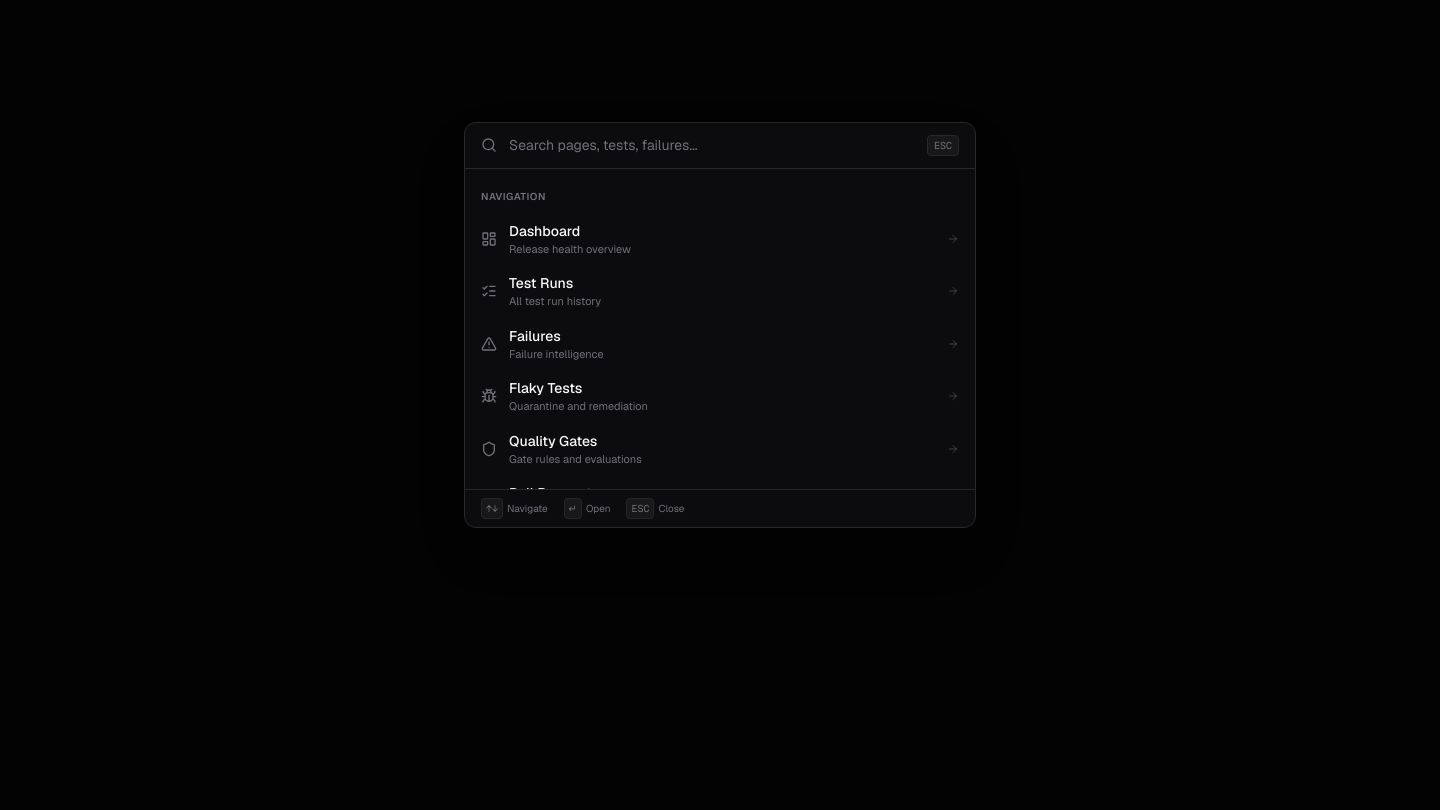
Test: CommandSearch › is case insensitive
The width and height of the screenshot is (1440, 810).
Type "REPORTS" into the field.
click(712, 145); type("REPORTS")  # box [509,135,915,155]
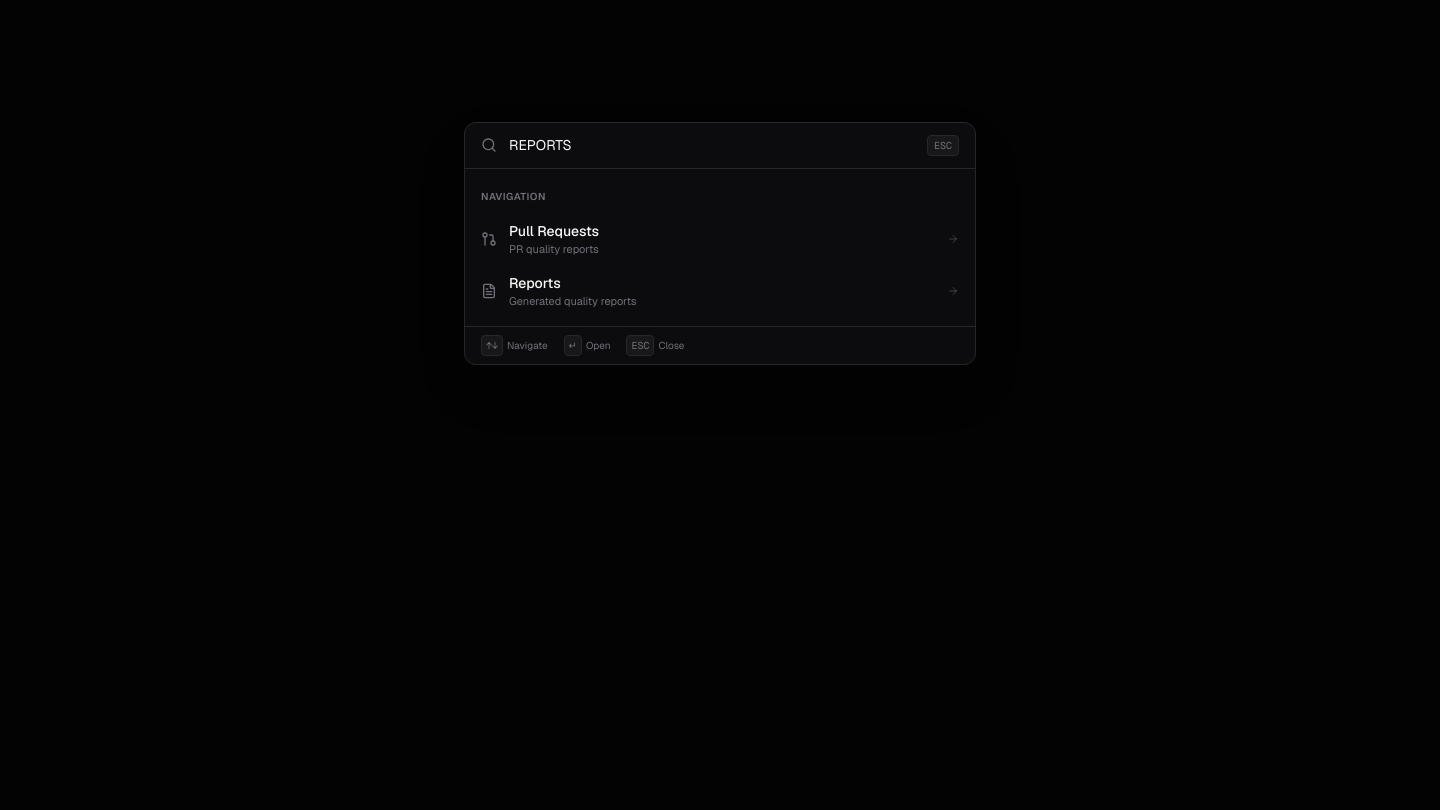
Expected: the text "Reports" is shown, [509,274,561,292]
